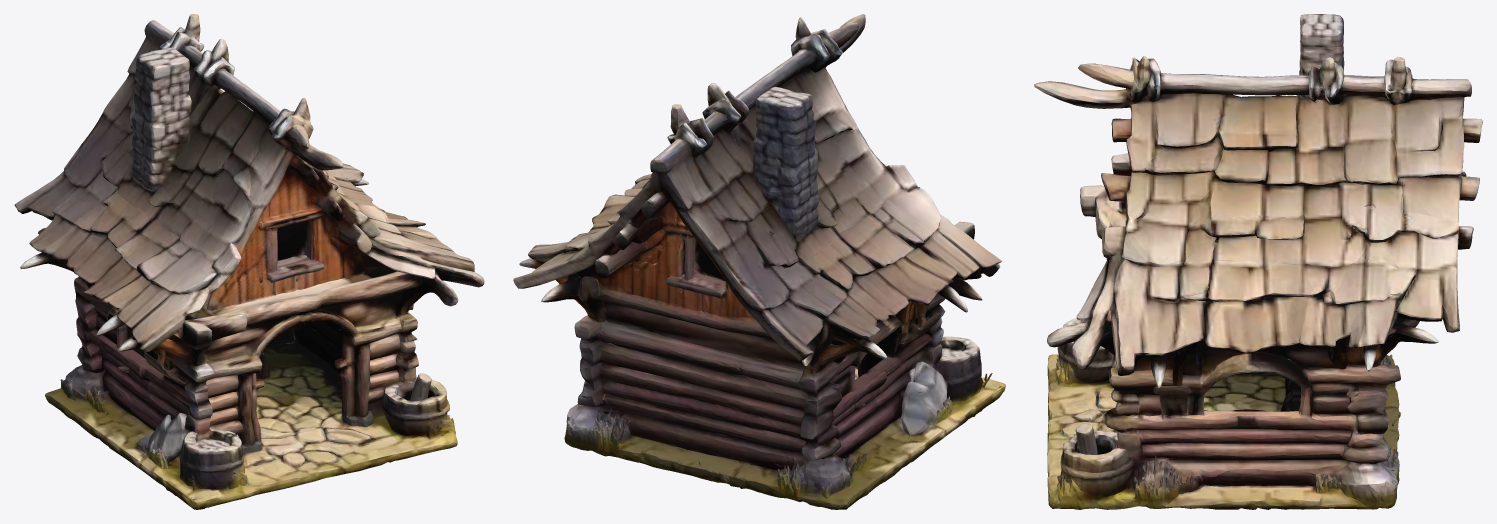
The model's file is orc_smithy_ruin_01.glb.
The picture shows the model from 3 angles, left to right: view 1: azimuth 30°, elevation 25°; view 2: azimuth 150°, elevation 25°; view 3: azimuth 270°, elevation 25°; orthographic projection. The views are drawn at different scales.
Visible parts, largest first — view 1: geometry_0; view 2: geometry_0; view 3: geometry_0.
Boxes of the visible parts, x1,y1,x2,y2 form: geometry_0: [14, 14, 484, 509]; geometry_0: [513, 14, 1005, 509]; geometry_0: [1034, 14, 1482, 509].
Size of the model in its own units: 1 by 0.9604 by 0.9924.
Materials: 1 (1 with a texture image).
